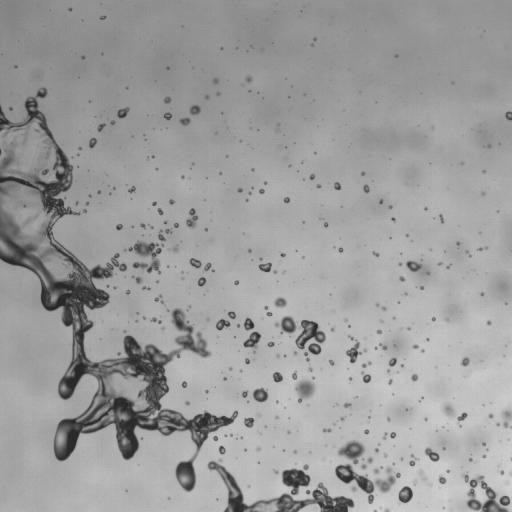droplet: (335, 463, 400, 503), (275, 316, 325, 361), (462, 473, 511, 511), (127, 241, 161, 273), (337, 440, 364, 464), (346, 336, 366, 363), (294, 377, 315, 402), (398, 486, 412, 503), (252, 388, 268, 402), (441, 402, 455, 417), (424, 447, 439, 461), (216, 319, 230, 330), (406, 261, 421, 271), (117, 107, 129, 118), (258, 262, 271, 272), (189, 258, 201, 268), (274, 297, 286, 307), (361, 372, 371, 383), (272, 372, 282, 382), (244, 417, 254, 427), (189, 105, 200, 114), (409, 454, 417, 466), (457, 412, 466, 422), (388, 357, 396, 367), (197, 277, 205, 286), (154, 295, 163, 303), (461, 357, 469, 366), (180, 118, 190, 125), (89, 138, 96, 148), (150, 317, 161, 323), (438, 475, 446, 483), (169, 245, 178, 252), (204, 262, 211, 271), (133, 276, 142, 283), (218, 445, 225, 454), (97, 123, 104, 131), (505, 111, 511, 120), (164, 112, 171, 119), (228, 311, 235, 318), (380, 343, 387, 350), (411, 374, 418, 381), (334, 182, 340, 189), (363, 185, 369, 192), (128, 186, 135, 192), (157, 208, 163, 215), (292, 371, 297, 379), (245, 76, 251, 82), (164, 97, 170, 103), (116, 224, 122, 230), (267, 342, 274, 347), (439, 214, 443, 222), (322, 428, 330, 432), (140, 223, 146, 228), (245, 358, 250, 364), (182, 381, 187, 387), (242, 391, 247, 397), (390, 432, 395, 438), (213, 435, 218, 441), (344, 403, 351, 407), (213, 78, 218, 83), (309, 174, 314, 179), (284, 197, 289, 202), (169, 199, 174, 204), (399, 276, 404, 281), (329, 360, 334, 365), (364, 429, 369, 434), (165, 229, 171, 233), (373, 252, 379, 256), (237, 188, 242, 192), (259, 189, 264, 193), (22, 203, 27, 207), (267, 312, 272, 316), (376, 329, 381, 333), (413, 344, 418, 348), (388, 379, 392, 384), (488, 414, 493, 418), (340, 416, 345, 420), (374, 448, 378, 453), (419, 470, 423, 475), (383, 433, 386, 439), (316, 184, 320, 188), (391, 217, 395, 221), (174, 223, 178, 227), (281, 253, 285, 257), (234, 280, 238, 284), (382, 306, 386, 310), (487, 321, 491, 325), (293, 351, 297, 355), (308, 367, 312, 371), (499, 470, 503, 474), (100, 16, 105, 19), (384, 508, 389, 511), (205, 95, 209, 98), (111, 120, 114, 124), (361, 172, 365, 175), (152, 202, 156, 205), (324, 222, 327, 226), (339, 248, 342, 252), (126, 290, 130, 293), (256, 447, 260, 450), (274, 470, 278, 473), (181, 175, 184, 178), (379, 200, 382, 203), (438, 262, 441, 265), (447, 265, 450, 268), (264, 306, 267, 309), (432, 317, 435, 320), (331, 328, 334, 331), (223, 377, 226, 380), (186, 401, 189, 404), (387, 417, 390, 420), (469, 458, 472, 461), (423, 476, 426, 479), (482, 455, 486, 457), (313, 38, 316, 40), (217, 92, 219, 95), (9, 107, 11, 110), (97, 191, 100, 193), (482, 192, 484, 195), (389, 205, 391, 208), (164, 221, 167, 223), (456, 242, 459, 244), (248, 249, 251, 251), (399, 262, 401, 265), (274, 270, 276, 273), (426, 272, 429, 274), (237, 324, 240, 326), (162, 327, 164, 330), (407, 327, 409, 330), (421, 349, 423, 352), (401, 364, 403, 367), (387, 370, 389, 373), (349, 377, 351, 380), (205, 390, 208, 392), (424, 418, 427, 420), (496, 423, 499, 425), (294, 450, 296, 453), (384, 454, 387, 456), (447, 469, 449, 472), (413, 481, 415, 484), (36, 129, 38, 131), (30, 203, 32, 205), (86, 202, 88, 204), (425, 207, 427, 209), (84, 210, 86, 212), (31, 217, 33, 219), (150, 226, 152, 228), (466, 251, 468, 253), (420, 287, 422, 289), (481, 293, 483, 295), (188, 306, 190, 308), (345, 319, 347, 321), (426, 338, 428, 340), (375, 347, 377, 349), (277, 355, 279, 357), (229, 367, 231, 369), (483, 443, 485, 445)
ligament: (0, 89, 237, 491), (207, 460, 354, 511), (243, 318, 260, 350), (186, 208, 197, 228), (502, 408, 511, 428), (361, 457, 373, 469), (158, 230, 165, 242), (362, 361, 371, 367), (142, 286, 149, 290), (478, 247, 486, 250), (0, 150, 1, 154), (510, 471, 511, 475), (373, 510, 377, 511)
